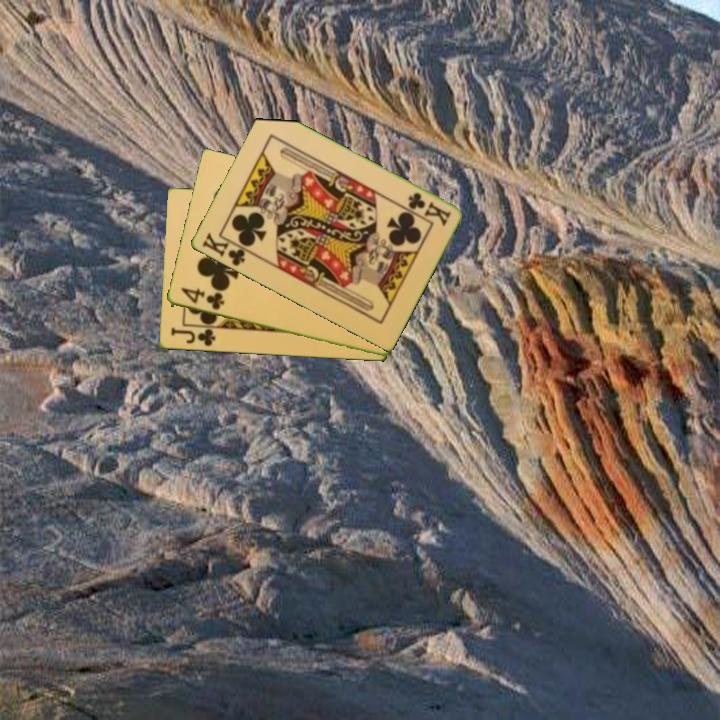4c: (177, 284, 227, 313)
Jc: (167, 324, 218, 349)
Kc: (198, 229, 254, 269), (404, 189, 454, 228)
